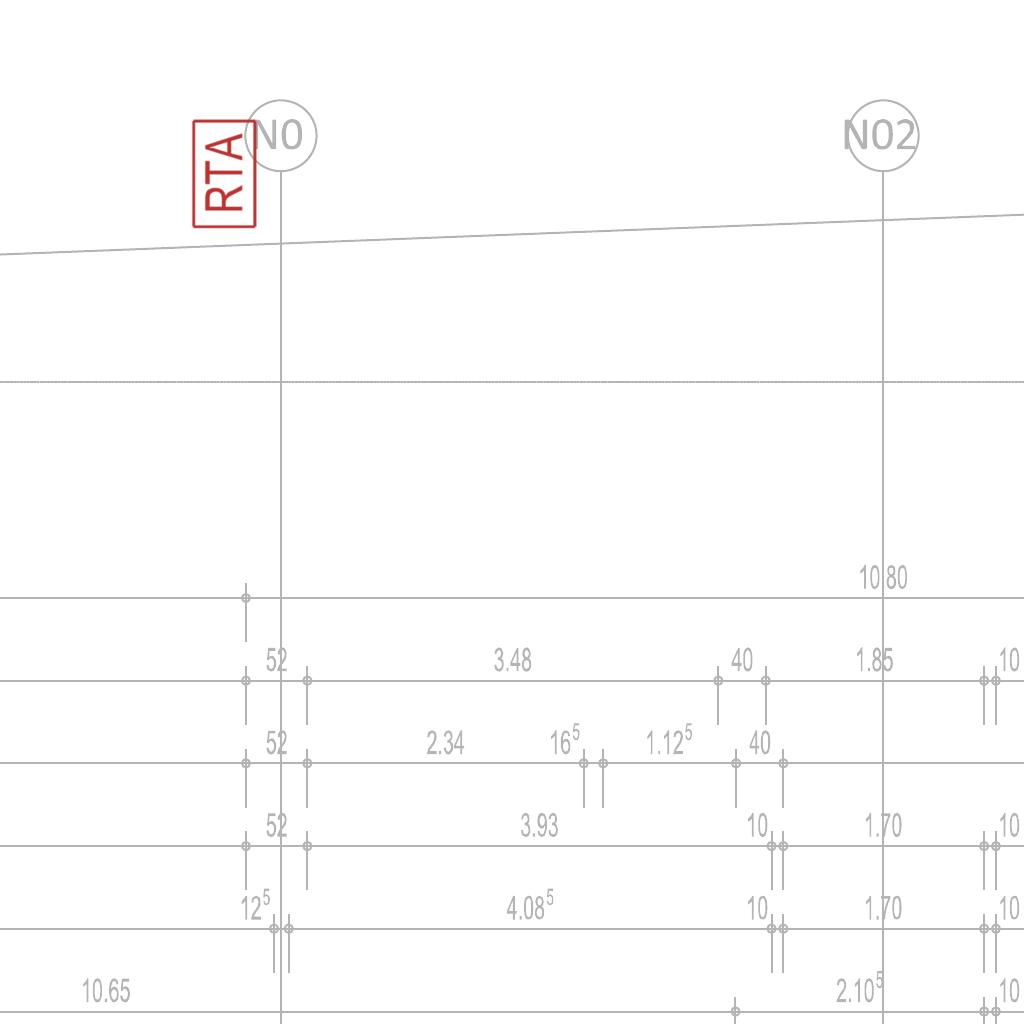Ruf-und_Abstelltaster: (190, 118, 259, 232)
